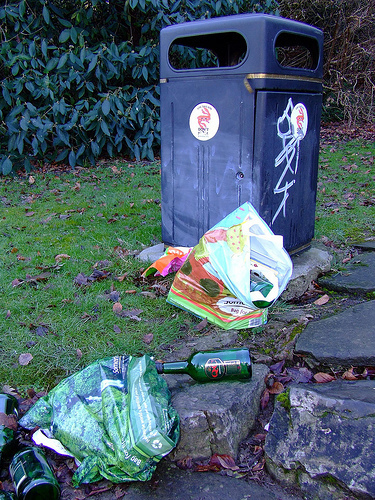litter: (24, 351, 182, 487), (164, 202, 294, 331), (156, 347, 253, 380), (9, 440, 61, 499), (140, 245, 162, 281)
